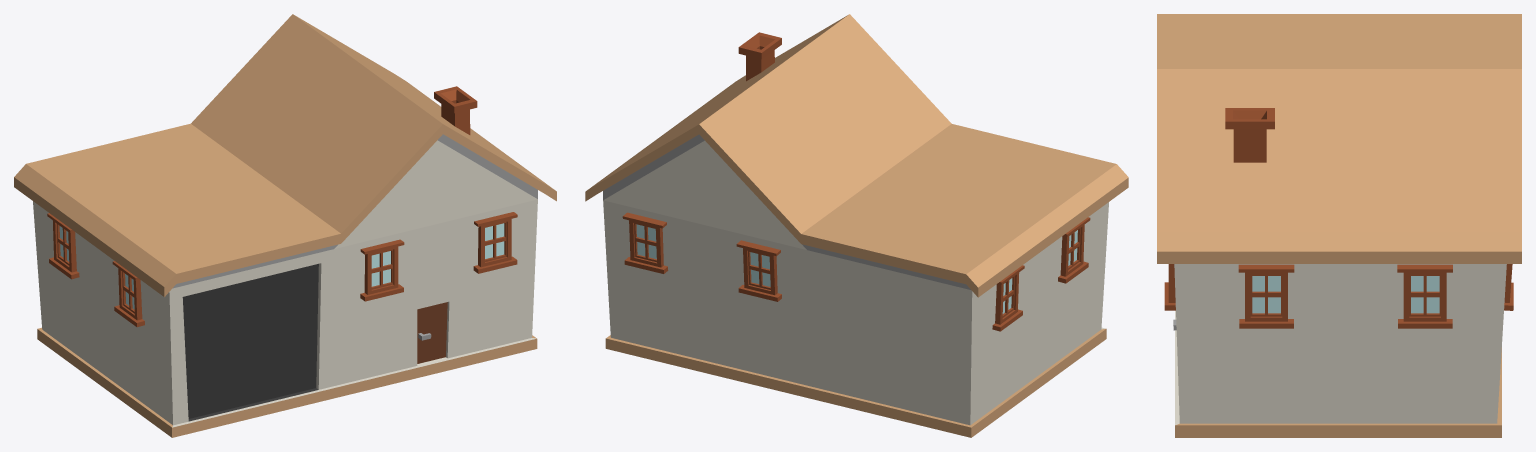
File: house4.glb
3 views of the same model, side by side, from view 1: azimuth 30°, elevation 25°; view 2: azimuth 150°, elevation 25°; view 3: azimuth 270°, elevation 25° (orthographic). The views are drawn at different scales.
Visible parts, largest first — view 1: House4; view 2: House4; view 3: House4.
Boxes of the visible parts, x1=… form: House4: x1=14, y1=14, x2=556, y2=437; House4: x1=585, y1=14, x2=1128, y2=437; House4: x1=1157, y1=14, x2=1521, y2=437.
Bounding box in the file's own units: 2.16 × 1.34 × 1.44.
Materials: 1 (1 with a texture image).
